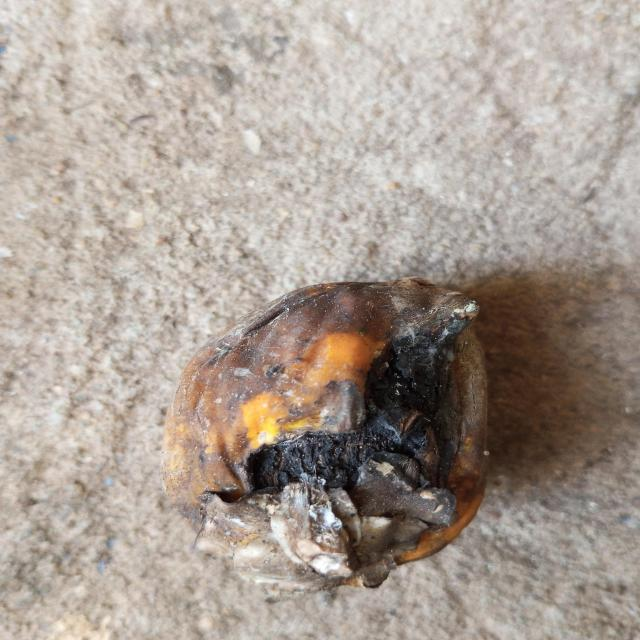damaged: (164, 278, 489, 592)
